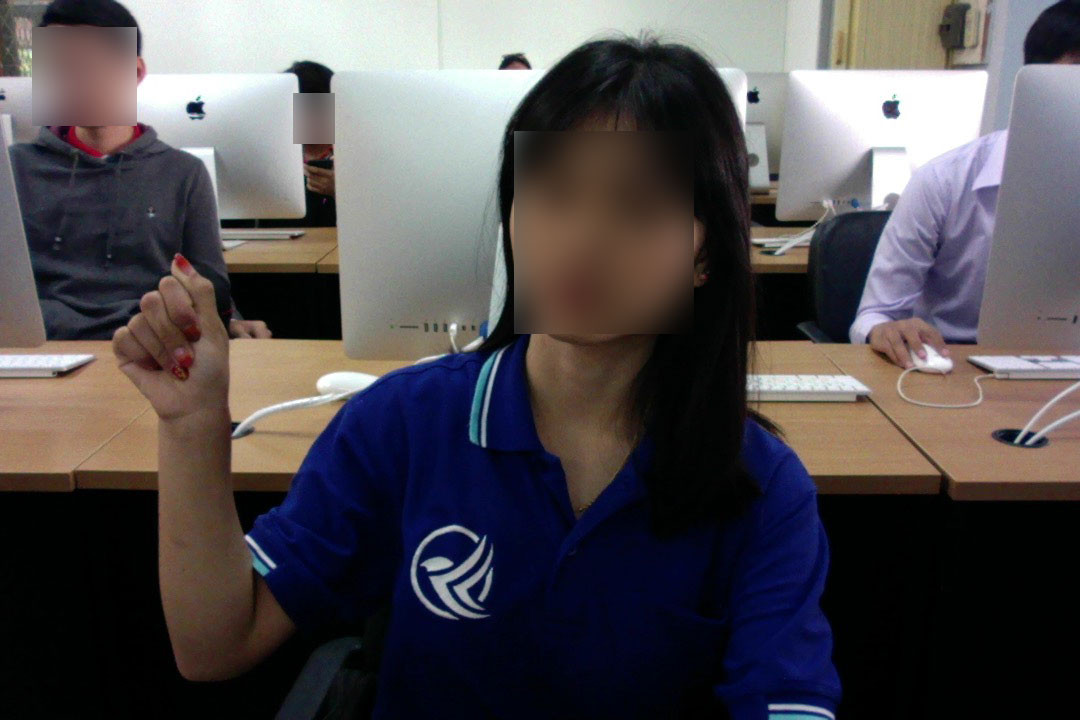or: (105, 245, 241, 434)
